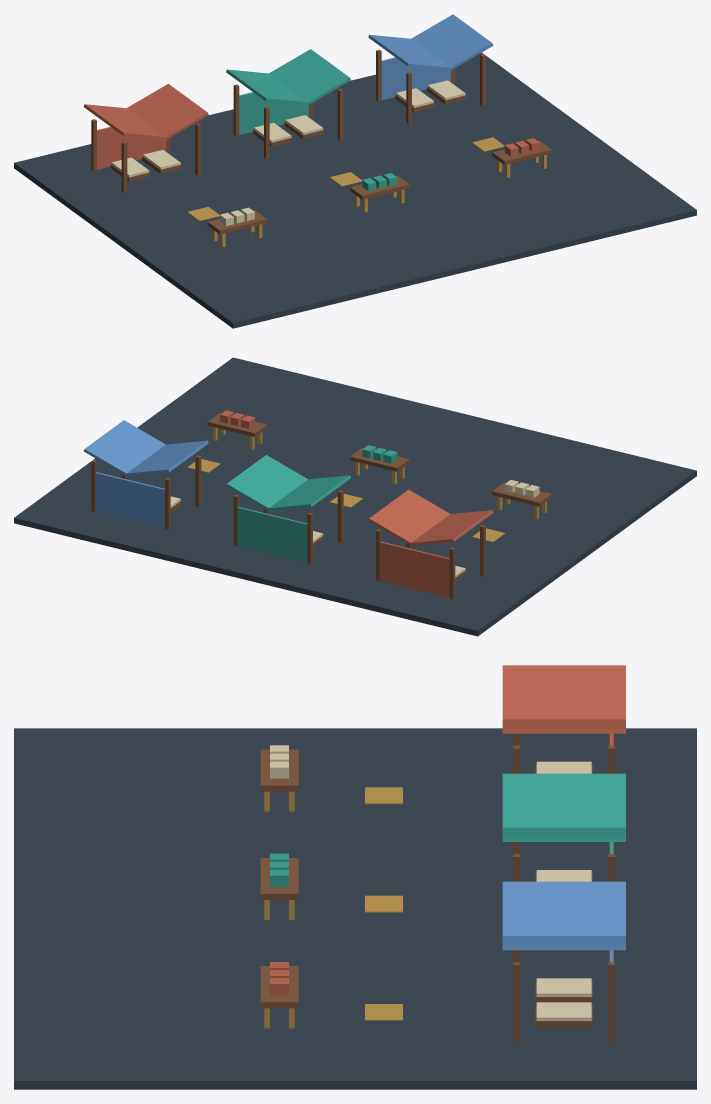
The model's file is refuge_camp.glb.
The picture shows the model from 3 angles, top to bottom: view 1: azimuth 30°, elevation 25°; view 2: azimuth 150°, elevation 25°; view 3: azimuth 270°, elevation 25°; orthographic projection. The views are drawn at different scales.
Visible parts, largest first — view 1: refuge_camp; view 2: refuge_camp; view 3: refuge_camp.
Part boxes in pixels (x1,y1,x2,y2): refuge_camp: [14, 14, 696, 328]; refuge_camp: [14, 357, 696, 636]; refuge_camp: [14, 665, 696, 1089].
Size of the model in its own units: 88 by 12.55 by 72.
